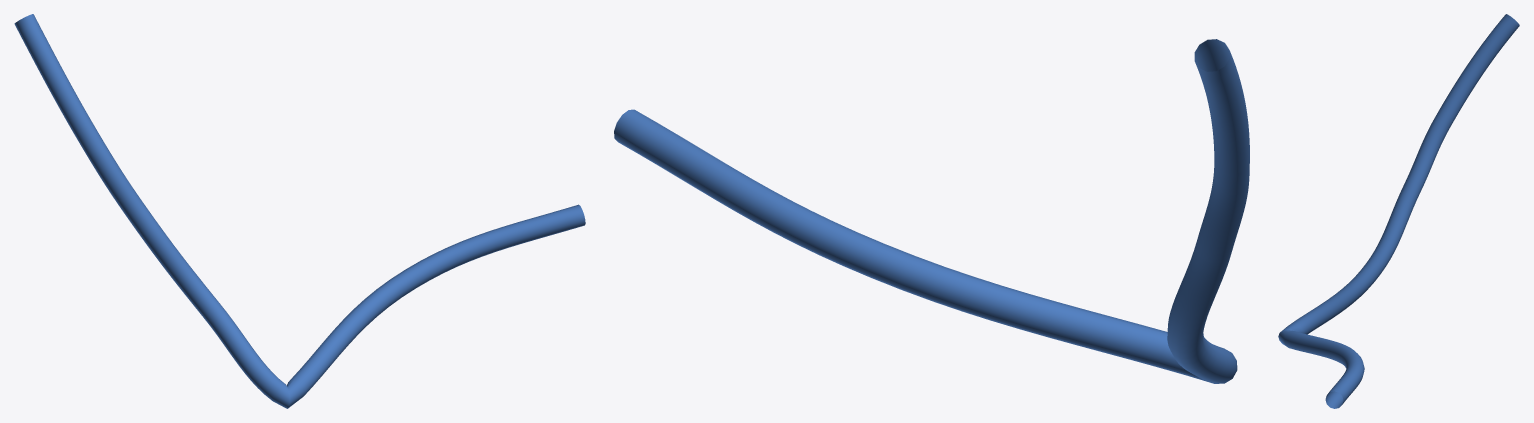
3 renders of one model, left to right at view 1: azimuth 30°, elevation 25°; view 2: azimuth 150°, elevation 25°; view 3: azimuth 270°, elevation 25°, orthographic. The views are drawn at different scales.
Parts seen in each view (by area): view 1: 右侧足底静脉弓; view 2: 右侧足底静脉弓; view 3: 右侧足底静脉弓.
Part boxes in pixels (<box>): 右侧足底静脉弓: <box>14,14,585,408</box>; 右侧足底静脉弓: <box>614,39,1249,383</box>; 右侧足底静脉弓: <box>1278,14,1519,408</box>.
Bounding box in the file's own units: 0.0654 × 0.0444 × 0.0349.
